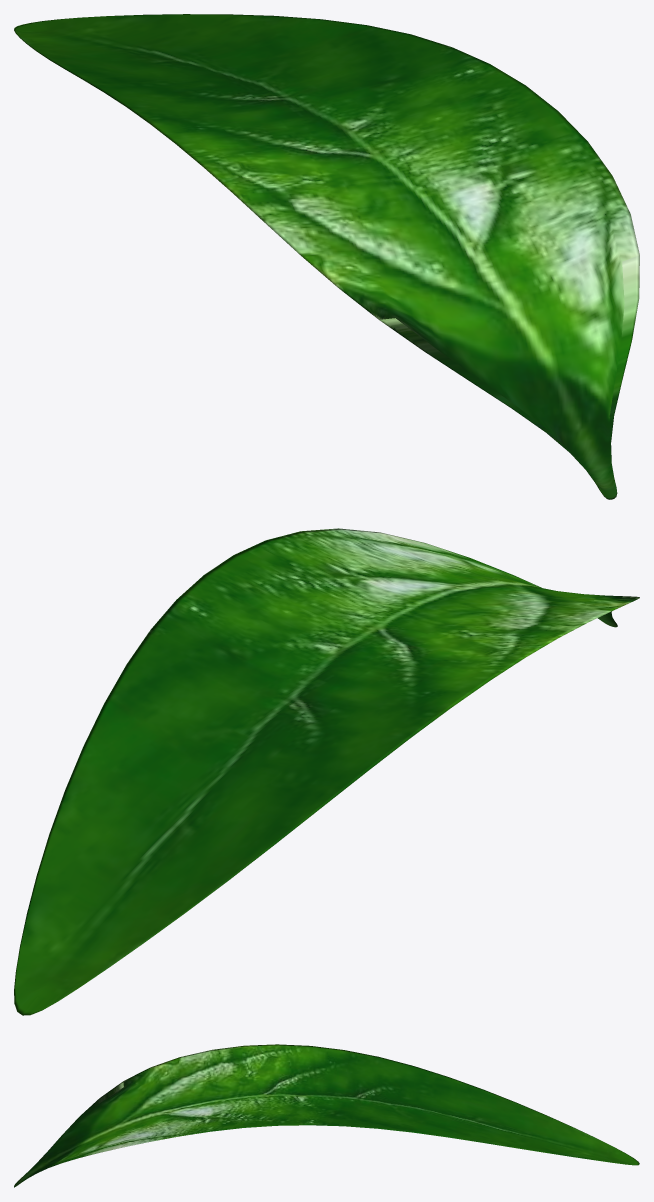
Rendered from Serpentina_Leaf.fbx.
3 renders of one model, top to bottom at view 1: azimuth 30°, elevation 25°; view 2: azimuth 150°, elevation 25°; view 3: azimuth 270°, elevation 25°, orthographic. The views are drawn at different scales.
Visible parts, largest first — view 1: Leaf Exports; view 2: Leaf Exports; view 3: Leaf Exports.
Part boxes in pixels (x1,y1,x2,y2): Leaf Exports: (14,14,639,499); Leaf Exports: (14,528,639,1015); Leaf Exports: (14,1044,639,1187).
Size of the model in its own units: 228 by 130 by 716.
